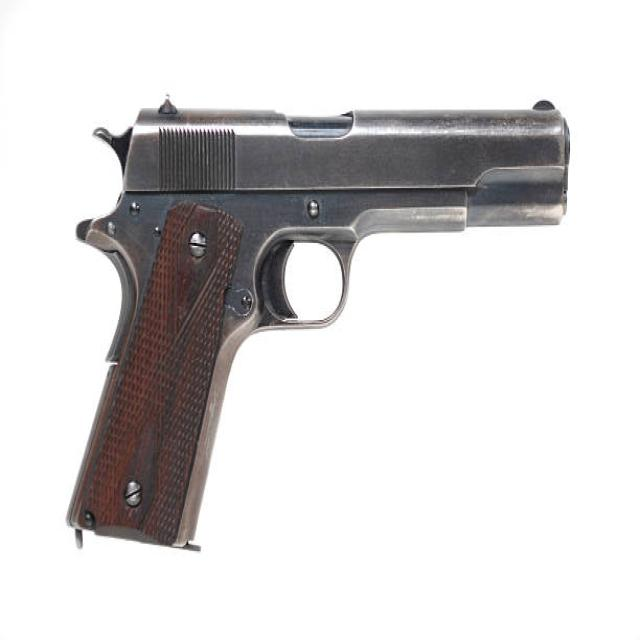pistol: (62, 93, 581, 557)
